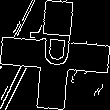P_E: (28, 34, 82, 76)
